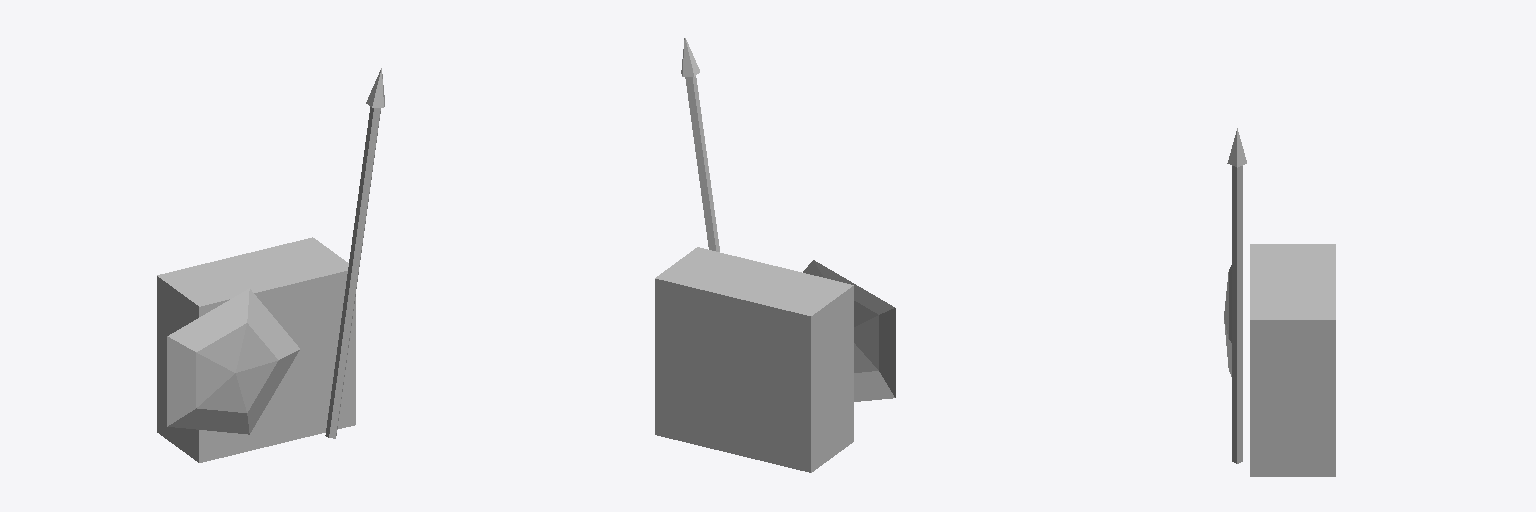
File: army.obj
The picture shows the model from 3 angles: view 1: azimuth 30°, elevation 25°; view 2: azimuth 150°, elevation 25°; view 3: azimuth 270°, elevation 25°; orthographic projection.
Size of the model in its own units: 7.63 by 12.08 by 3.43.